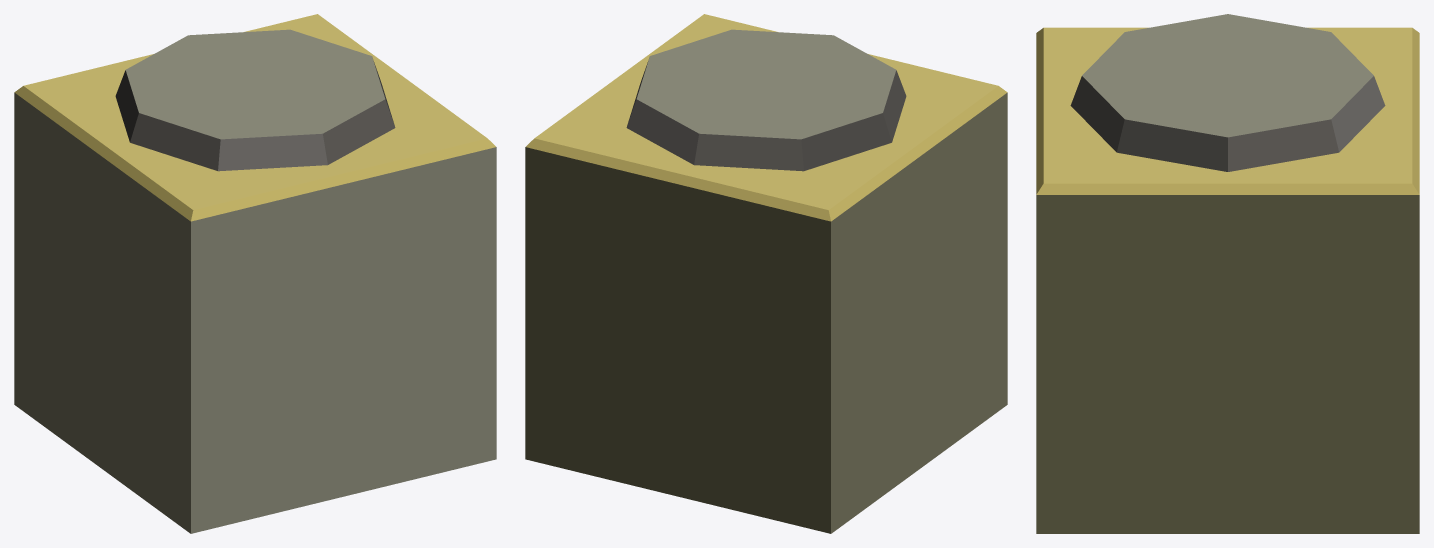
The model's file is base_sand.FBX.
The picture shows the model from 3 angles, left to right: view 1: azimuth 30°, elevation 25°; view 2: azimuth 150°, elevation 25°; view 3: azimuth 270°, elevation 25°; orthographic projection. The views are drawn at different scales.
Parts seen in each view (by area): view 1: base_sand; view 2: base_sand; view 3: base_sand.
Boxes of the visible parts, bbox=[...] form: base_sand: bbox=[14, 14, 496, 533]; base_sand: bbox=[525, 14, 1007, 533]; base_sand: bbox=[1036, 14, 1419, 533].
Size of the model in its own units: 100 by 109 by 100.
